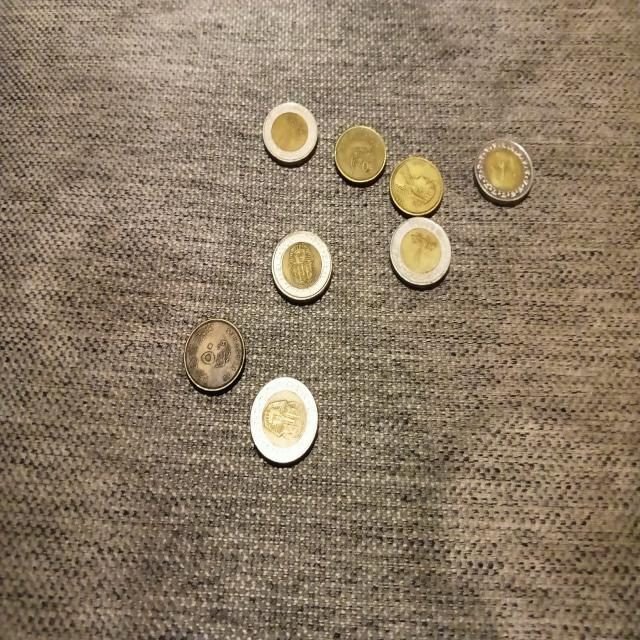Half Pound: (182, 316, 250, 396), (386, 153, 447, 217), (333, 124, 389, 187)
One Pound: (245, 373, 324, 470), (269, 223, 335, 309), (386, 216, 459, 292), (468, 133, 540, 204), (260, 97, 322, 169)
